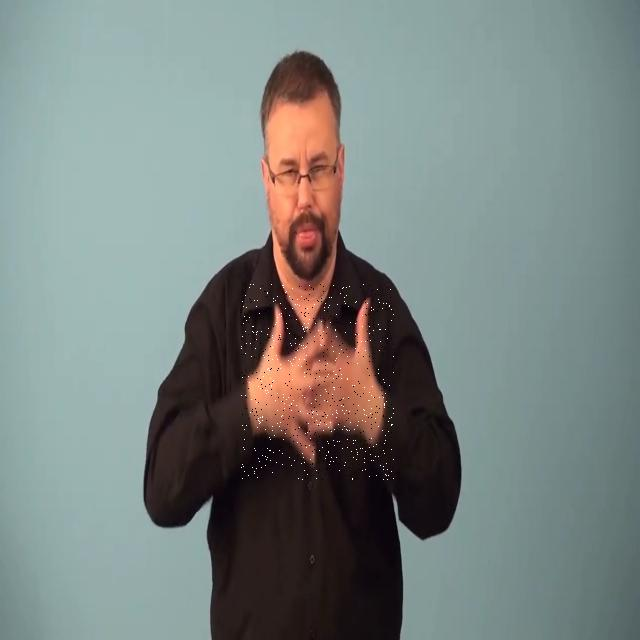juicy: (241, 284, 394, 480)
